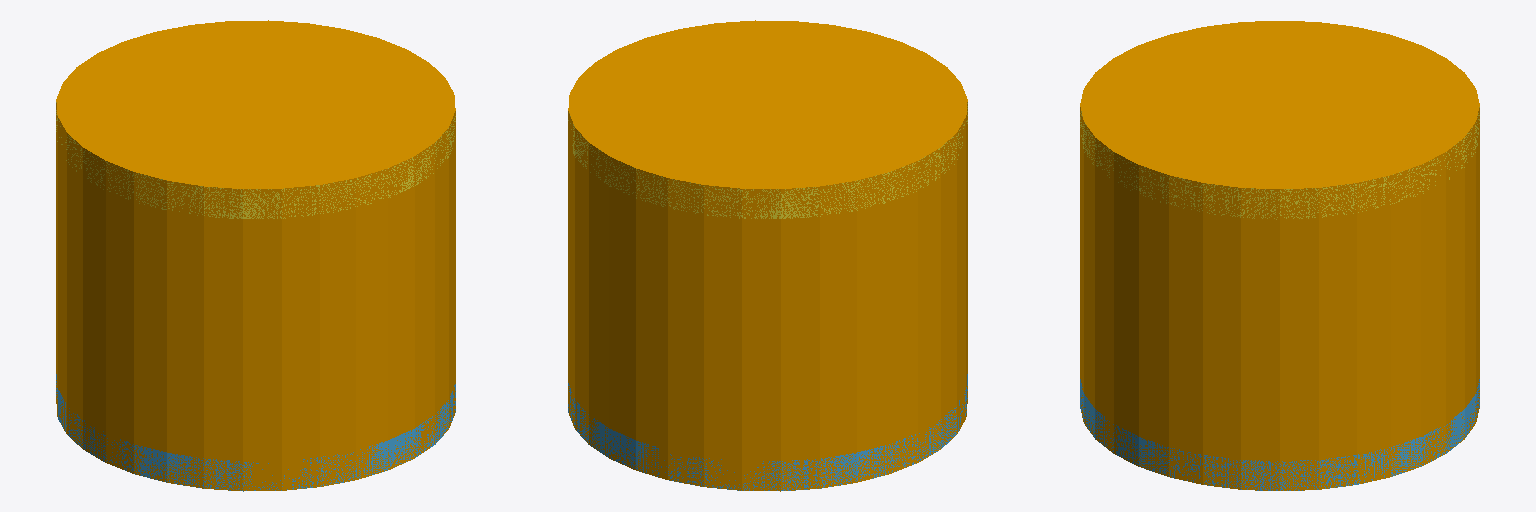
robot.urdf — 5_I:
<?xml version="1.0"?>

<robot name="5_I">

    <!-- The base --> 
    <link name="base_link">
        <inertial>
            <origin xyz="0 0 .5" rpy="0 0 0"/>
            <mass value="1"/>
            <inertia ixx="0.1" ixy="0.0" ixz="0.0" iyy="0.1" iyz="0.0" izz="0.1"/>
        </inertial>
        <visual>
            <origin xyz="0 0 .5" rpy="0 0 0"/>
            <geometry>
                <cylinder length="1" radius="0.6"/>
            </geometry>
        </visual>
        <collision>
            <origin xyz="0 0 .5" rpy="0 0 0"/>
            <geometry>
                <cylinder length="1" radius="0.6"/>
            </geometry>
        </collision>
    </link>

    <!-- 0 -->
    <link name="0_link">
        <inertial>
            <origin xyz="0 0 0" rpy="0 0 0"/>
            <mass value="1"/>
            <inertia ixx="0.01" ixy="0.0" ixz="0.0" iyy="0.01" iyz="0.0" izz="0.01"/>
        </inertial>
        <visual>
            <origin xyz="0 0 0" rpy="0 0 0"/>
            <geometry>
                <cylinder length="0.1" radius="0.6"/>
            </geometry>
        </visual>
        <collision>
            <origin xyz="0 0 0" rpy="0 0 0"/>
            <geometry>
                <cylinder length="0.1" radius="0.6"/>
            </geometry>
        </collision>
    </link>

    <!-- Joint from base to 0 -->
    <joint name="base_0_joint" type="fixed">
        <parent link="base_link"/>
        <child link="0_link"/>
        <origin xyz="0 0 0.05" rpy="0 0 0"/>
    </joint>

    <!-- 1 -->
    <link name="1_link">
        <inertial>
            <origin xyz="0 0 0" rpy="0 0 0"/>
            <mass value="1"/>
            <inertia ixx="0.01" ixy="0.0" ixz="0.0" iyy="0.01" iyz="0.0" izz="0.01"/>
        </inertial>
        <visual>
            <origin xyz="0 0 0" rpy="0 0 0"/>
            <geometry>
                <cylinder length="0.8" radius="0.2"/>
            </geometry>
        </visual>
        <collision>
            <origin xyz="0 0 0" rpy="0 0 0"/>
            <geometry>
                <cylinder length="0.8" radius="0.2"/>
            </geometry>
        </collision>
    </link>

    <!-- Joint from 0 to 1 -->
    <joint name="0_1_joint" type="fixed">
        <parent link="0_link"/>
        <child link="1_link"/>
        <origin xyz="0 0 0.45" rpy="0 0 0"/>
    </joint>

    <!-- 2 -->
    <link name="2_link">
        <inertial>
            <origin xyz="0 0 0" rpy="0 0 0"/>
            <mass value="1"/>
            <inertia ixx="0.01" ixy="0.0" ixz="0.0" iyy="0.01" iyz="0.0" izz="0.01"/>
        </inertial>
        <visual>
            <origin xyz="0 0 0" rpy="0 0 0"/>
            <geometry>
                <cylinder length="0.1" radius="0.6"/>
            </geometry>
        </visual>
        <collision>
            <origin xyz="0 0 0" rpy="0 0 0"/>
            <geometry>
                <cylinder length="0.1" radius="0.6"/>
            </geometry>
        </collision>
    </link>

    <!-- Joint from 1 to 2 -->
    <joint name="1_2_joint" type="fixed">
        <parent link="1_link"/>
        <child link="2_link"/>
        <origin xyz="0 0 0.45" rpy="0 0 0"/>
    </joint>

</robot>

--- What the picture shows (computed from the rendered views, not written in the file) ---
3 views of the same robot in one strip: view 1: azimuth 30°, elevation 25°; view 2: azimuth 150°, elevation 25°; view 3: azimuth 270°, elevation 25° (orthographic).
Robot: 5_I — 4 links, 3 joints (3 fixed); root link base_link; default pose: every joint at zero.
Links seen in each view (by area): view 1: base_link, 0_link, 2_link; view 2: base_link, 0_link, 2_link; view 3: base_link, 0_link, 2_link.
Boxes of the visible links, x1,y1,x2,y2 form: base_link: [56, 20, 455, 490]; 0_link: [56, 374, 455, 491]; 2_link: [56, 102, 455, 218]; base_link: [568, 20, 967, 491]; 0_link: [568, 374, 967, 490]; 2_link: [568, 103, 967, 218]; base_link: [1080, 21, 1479, 490]; 0_link: [1080, 379, 1479, 490]; 2_link: [1080, 107, 1479, 219].
Size in the robot's own frame: 1.2 by 1.2 by 1 metres.
Geometry: primitives only (box / cylinder / sphere), no mesh files.
